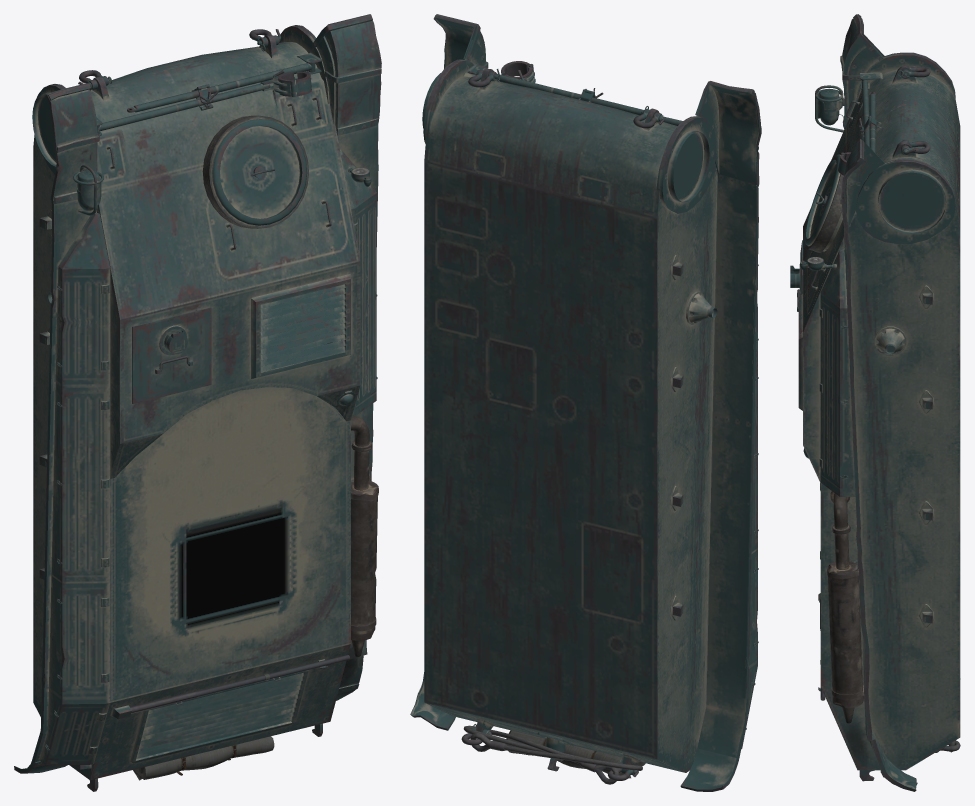
Rendered from Hull.glb.
The picture shows the model from 3 angles, left to right: view 1: azimuth 30°, elevation 25°; view 2: azimuth 150°, elevation 25°; view 3: azimuth 270°, elevation 25°; orthographic projection. The views are drawn at different scales.
Parts seen in each view (by area): view 1: set_0_group_0; view 2: set_0_group_0; view 3: set_0_group_0.
Part boxes in pixels (x1,y1,x2,y2): set_0_group_0: [14, 14, 381, 791]; set_0_group_0: [410, 14, 761, 791]; set_0_group_0: [790, 14, 960, 791].
Bounding box in the file's own units: 2.15 × 4.55 × 1.07.
Materials: 1 (1 with a texture image).
